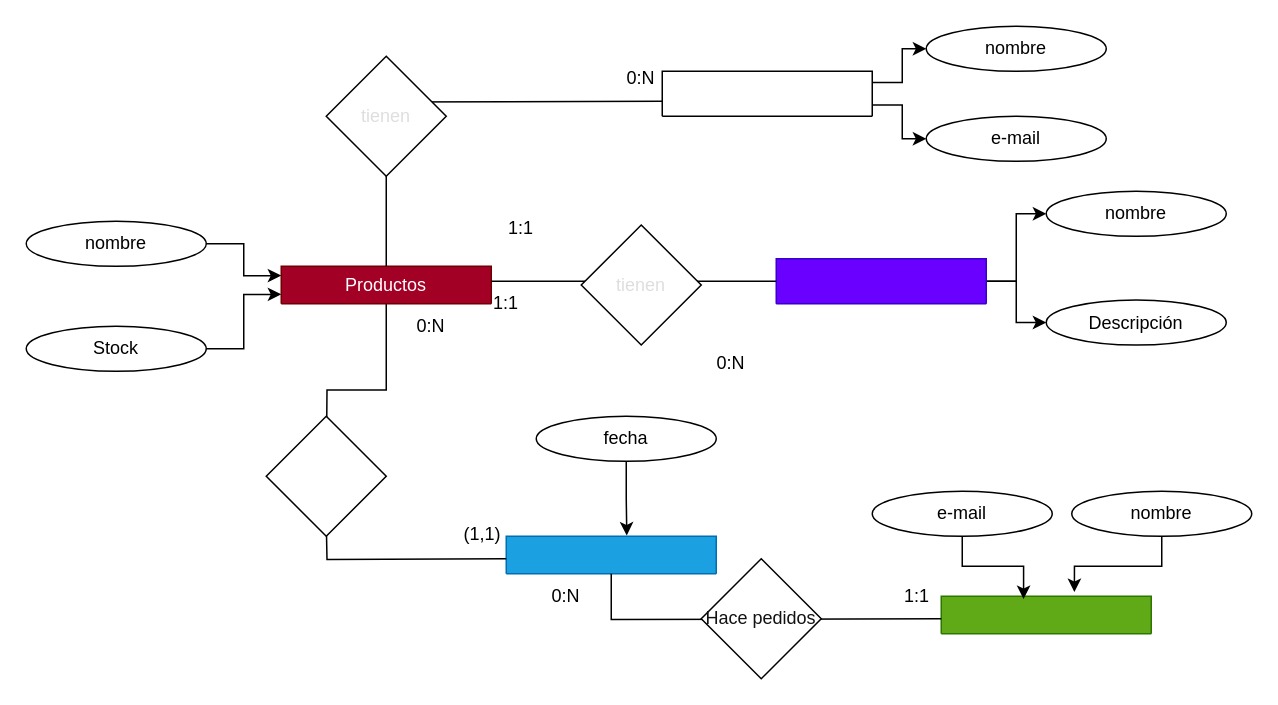
Image size: 1278x705. Some labels were removed from this diagram. Each missing label, with the box of its shape:
Categorias: (775, 257, 986, 304)
Cliente: (940, 595, 1151, 634)
Pedidos: (505, 535, 716, 574)
Proveedores: (661, 70, 872, 116)
tiene: (265, 415, 386, 536)
